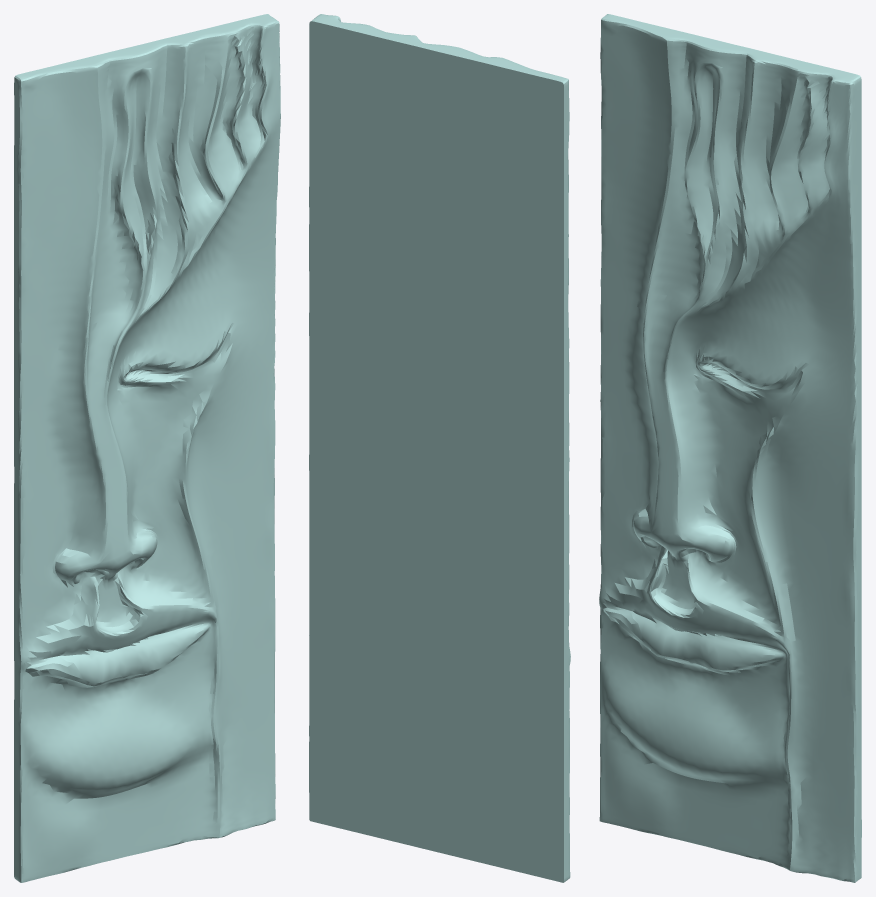
File: panel1.glb
3 renders of one model, left to right at view 1: azimuth 30°, elevation 25°; view 2: azimuth 150°, elevation 25°; view 3: azimuth 330°, elevation 25°, orthographic.
Size of the model in its own units: 0.4998 by 1.5 by 0.075.
